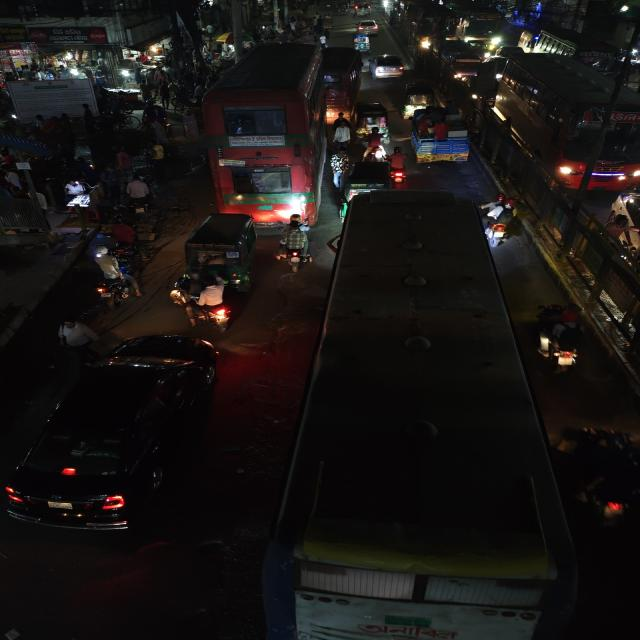bus: (280, 191, 565, 640), (201, 40, 329, 228), (500, 56, 639, 194), (526, 28, 639, 84), (320, 45, 362, 125), (448, 1, 506, 47)
car: (2, 331, 225, 537), (370, 52, 406, 81), (355, 19, 380, 34)
cng: (178, 210, 260, 290), (343, 160, 391, 192), (356, 100, 390, 138), (404, 80, 436, 112), (353, 33, 372, 53)
motorcycle: (570, 422, 640, 533), (529, 301, 584, 373), (178, 275, 239, 332), (90, 250, 138, 310), (274, 216, 315, 273), (482, 195, 518, 247), (386, 146, 408, 182)
pedestrian: (53, 316, 100, 359), (122, 174, 154, 216), (109, 218, 141, 253), (331, 117, 354, 151), (144, 140, 169, 170)
pickup_van: (435, 40, 484, 80)
truck: (408, 108, 472, 170)
